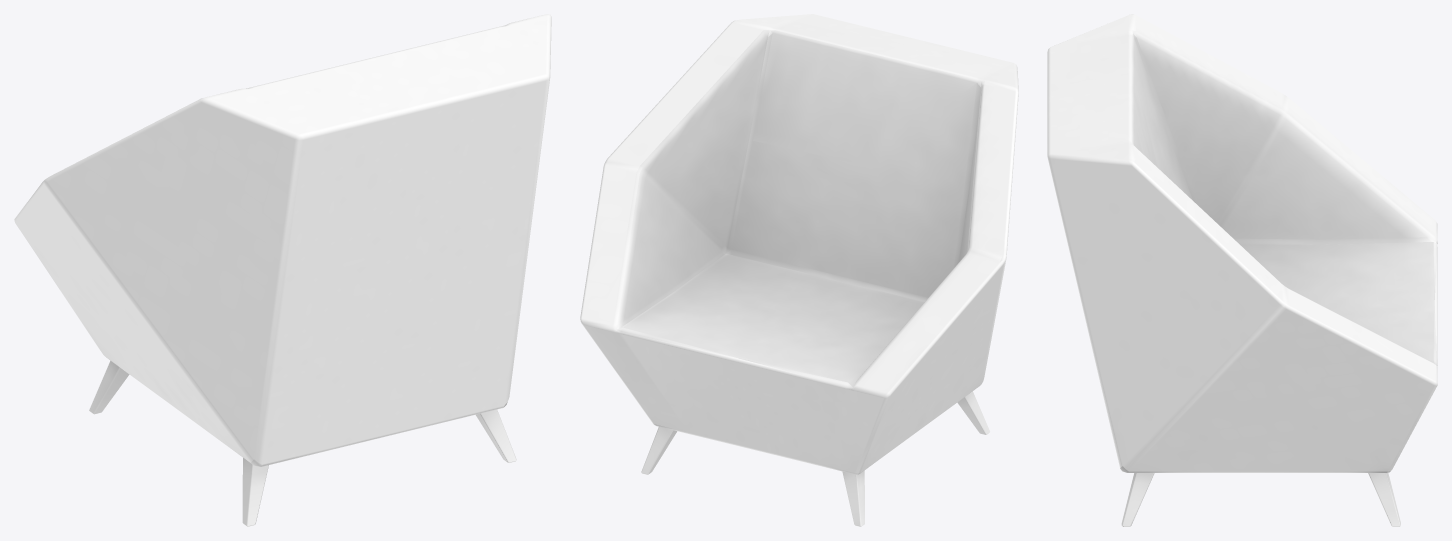
Rendered from Chair.glb.
The picture shows the model from 3 angles, left to right: view 1: azimuth 30°, elevation 25°; view 2: azimuth 150°, elevation 25°; view 3: azimuth 270°, elevation 25°; orthographic projection. The views are drawn at different scales.
Visible parts, largest first — view 1: Chair, Chair.001; view 2: Chair, Chair.001; view 3: Chair, Chair.001.
Boxes of the visible parts, box(x1,y1,x2,y2) form: Chair: box(14, 14, 551, 466); Chair.001: box(89, 360, 516, 526); Chair: box(580, 14, 1018, 474); Chair.001: box(641, 391, 989, 526); Chair: box(1047, 14, 1437, 472); Chair.001: box(1121, 473, 1400, 526).
Bounding box in the file's own units: 1.5 × 1.27 × 1.18.
1 material, 1 textured.
